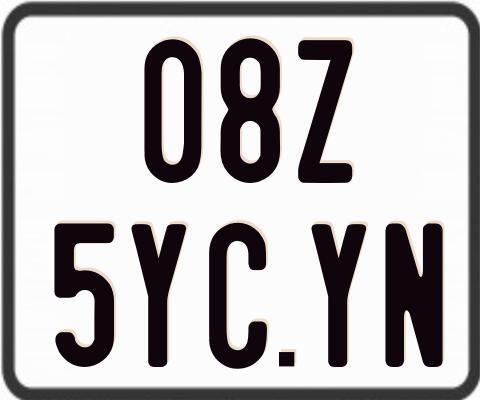0: (141, 37, 203, 183)
5: (51, 220, 115, 369)
8: (219, 36, 279, 186)
C: (208, 220, 271, 370)
N: (385, 223, 444, 369)
Y: (312, 221, 371, 365), (131, 222, 185, 365)
Z: (295, 39, 349, 187)
